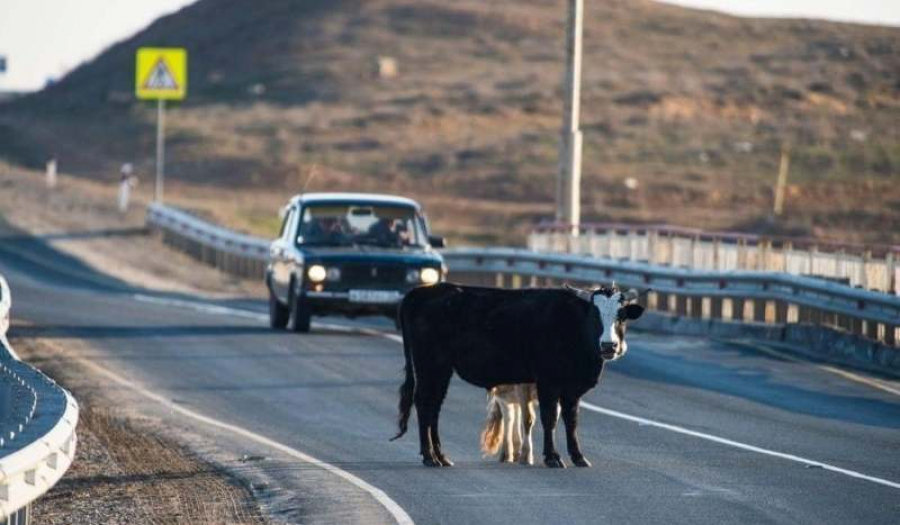inek: (395, 278, 651, 475)
otomobil: (254, 166, 460, 342)
